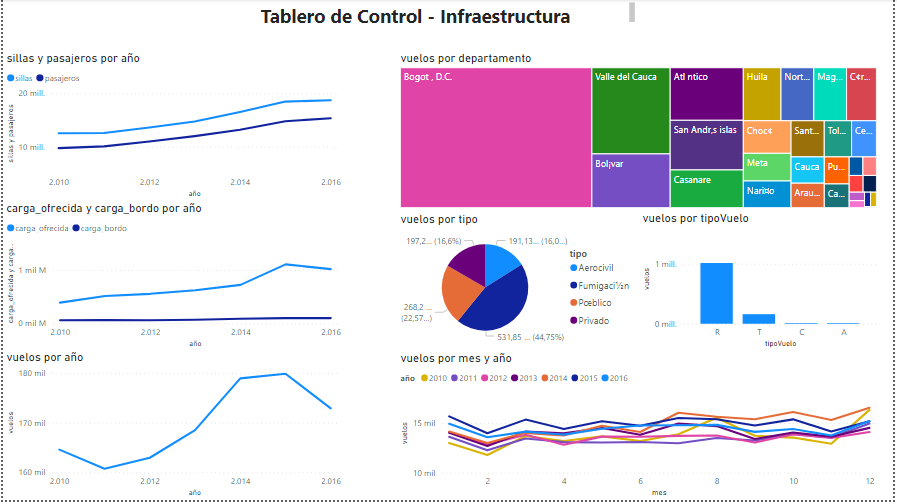

Layout of this report page (visuals, bound fields, positions):
{"tool":"powerbi","page":{"name":"Página 1","canvas":[1280,720],"ordinal":0},"visuals":[{"type":"lineChart","fields":{"Y":["Sum(hechovuelo.sillas)","Sum(hechovuelo.pasajeros)"],"Category":["fecha.año"]},"box":[0,75,491,215],"z":0},{"type":"lineChart","fields":{"Y":["Sum(hechovuelo.carga_ofrecida)","Sum(hechovuelo.carga_bordo)"],"Category":["fecha.año"]},"box":[0,290,491,215],"z":1000},{"type":"treemap","fields":{"Group":["geografia.departamento"],"Values":["Sum(hechovuelo.vuelos)"]},"box":[566.2,74.7,694.1,229.9],"z":2000},{"type":"lineChart","fields":{"Y":["Sum(hechovuelo.vuelos)"],"Category":["fecha.año"]},"box":[0,505,491,215],"z":3000},{"type":"lineChart","fields":{"Category":["fecha.mes"],"Y":["Sum(hechovuelo.vuelos)"],"Series":["fecha.año"]},"box":[566.2,505.9,694.1,214.1],"z":3001},{"type":"pieChart","fields":{"Series":["Aeropuerto.tipo"],"Y":["Sum(hechovuelo.vuelos)"]},"box":[566.2,306.1,347.8,198.3],"z":3002},{"type":"textbox","box":[365,0,547.5,54.6],"z":3004},{"type":"columnChart","fields":{"Category":["caracteristicas.tipoVuelo"],"Y":["Sum(hechovuelo.vuelos)"]},"box":[914,304.7,347.8,201.2],"z":3005}]}

Visuals, with their boxes in screenshot pixels (x1, y1, x2, y2), scaled from the page's 1280x720 canvas onto the 897x504 screenshot:
lineChart - Sum(hechovuelo.sillas) x Sum(hechovuelo.pasajeros): <region>0, 52, 344, 203</region>
lineChart - Sum(hechovuelo.carga_ofrecida) x Sum(hechovuelo.carga_bordo): <region>0, 203, 344, 354</region>
treemap - geografia.departamento x Sum(hechovuelo.vuelos): <region>397, 52, 883, 213</region>
lineChart - Sum(hechovuelo.vuelos) x fecha.año: <region>0, 354, 344, 503</region>
lineChart - fecha.mes x Sum(hechovuelo.vuelos): <region>397, 354, 883, 503</region>
pieChart - Aeropuerto.tipo x Sum(hechovuelo.vuelos): <region>397, 214, 641, 353</region>
textbox: <region>256, 0, 639, 38</region>
columnChart - caracteristicas.tipoVuelo x Sum(hechovuelo.vuelos): <region>641, 213, 884, 354</region>
